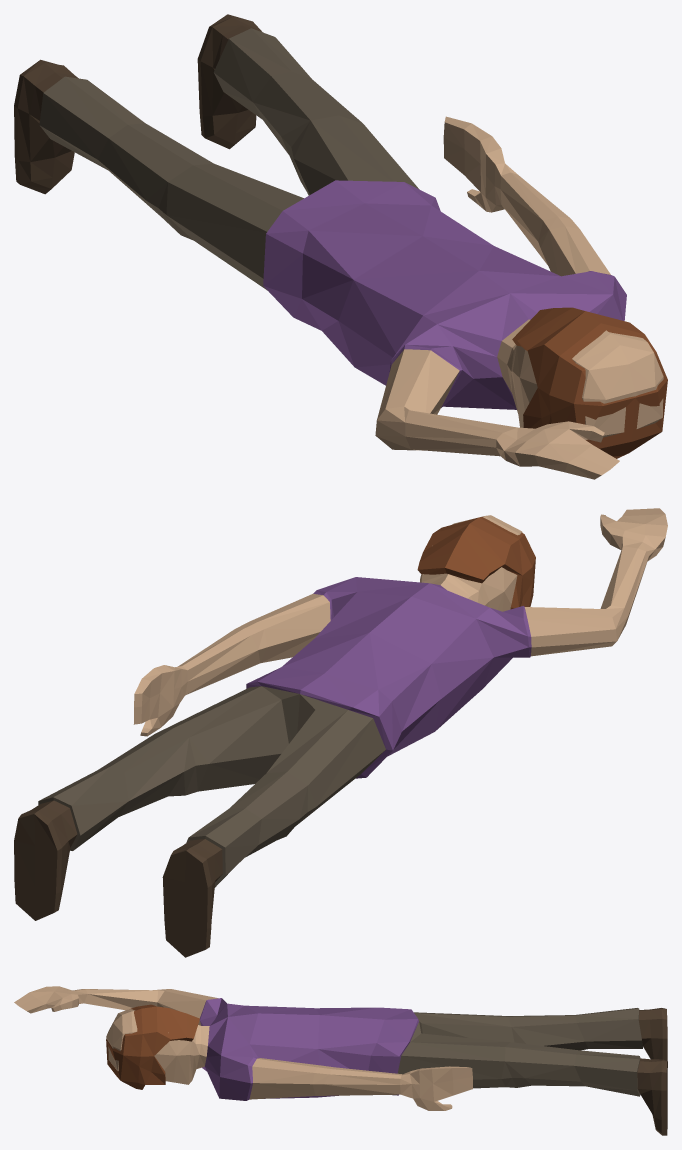
File: man-waving.obj
The picture shows the model from 3 angles, top to bottom: view 1: azimuth 30°, elevation 25°; view 2: azimuth 150°, elevation 25°; view 3: azimuth 270°, elevation 25°; orthographic projection. The views are drawn at different scales.
Parts seen in each view (by area): view 1: man-waving; view 2: man-waving; view 3: man-waving.
Part boxes in pixels (left/top/right/bottom): man-waving: left=14, top=14, right=667, bottom=479; man-waving: left=14, top=508, right=667, bottom=957; man-waving: left=14, top=986, right=667, bottom=1135.
Bounding box in the file's own units: 28.92 × 14.61 × 82.52.
